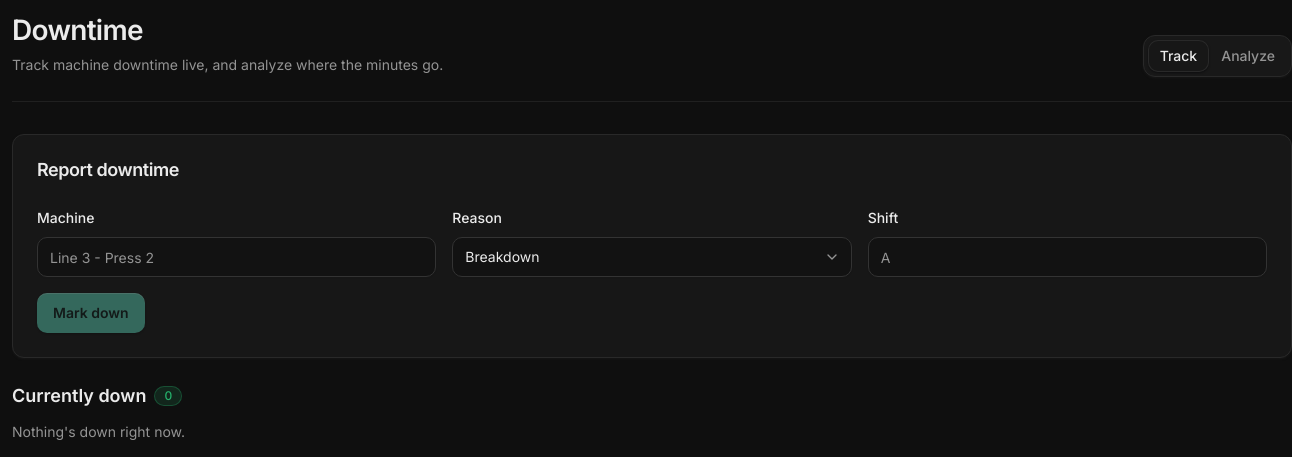
Test case: Downtime track (org with live tracking) › shows the empty board and keeps Mark down disabled until machine and shift are filled
This screenshot has width=1292, height=457.
Expected: the text "Nothing's down right now." is shown, x1=12 y1=423 x2=185 y2=440
Expected: the button "Track" is shown, x1=1148 y1=40 x2=1209 y2=72
Type "Press 4" into the field with placeholder "Line 3 - Press 2" at (237, 257), box x1=37 y1=237 x2=436 y2=277
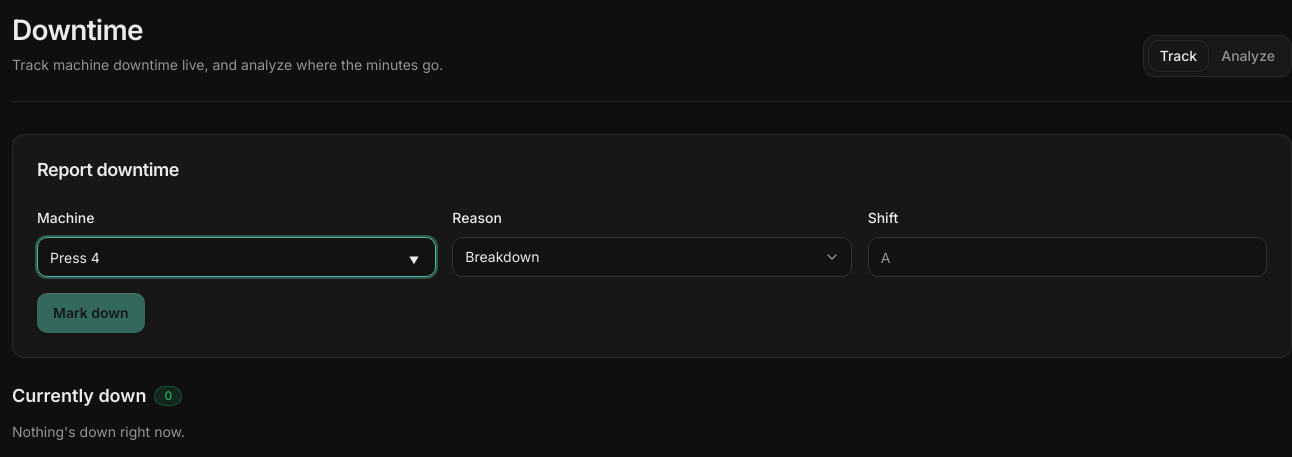
Expected: the button "Mark down" is disabled, x1=37 y1=293 x2=145 y2=333
Type "B" into the field with placeholder "A" at (1067, 257), box x1=868 y1=237 x2=1267 y2=277
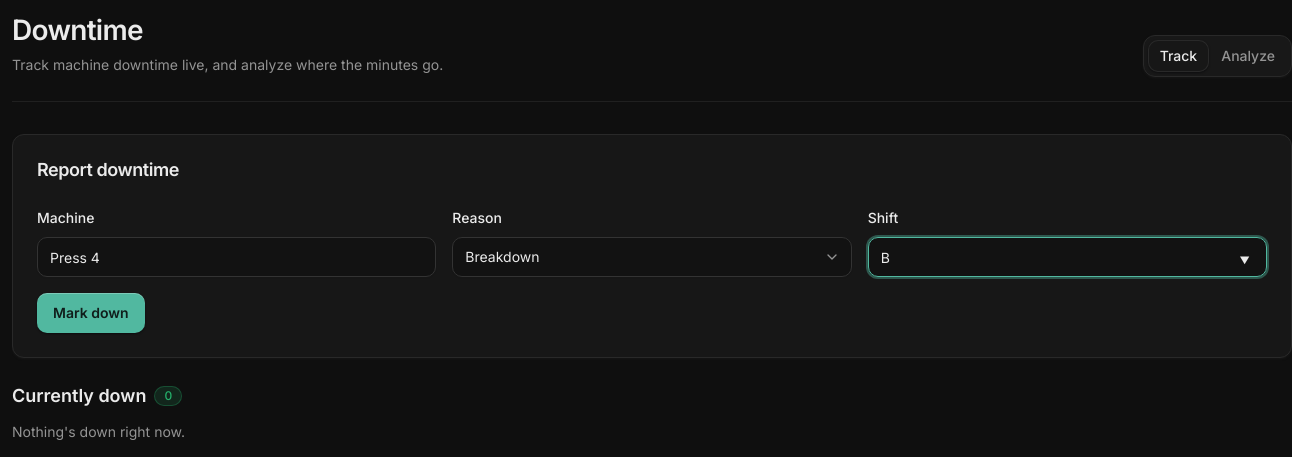
Expected: the button "Mark down" is enabled, x1=37 y1=293 x2=145 y2=333
